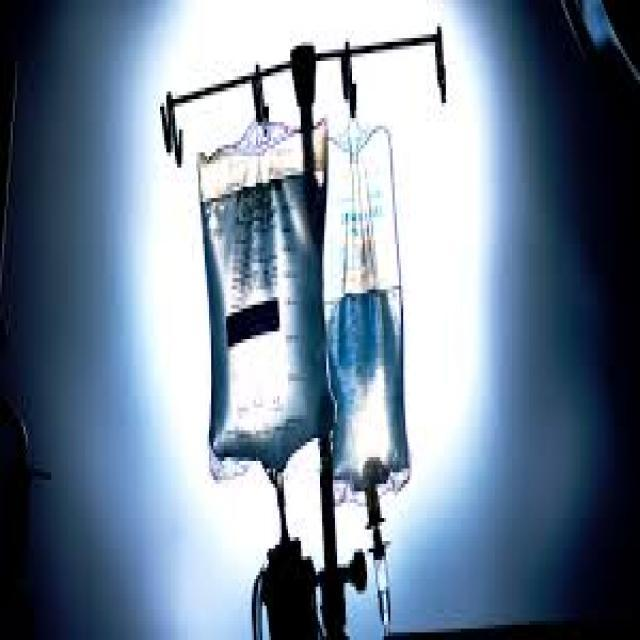iv_fluids: (117, 23, 454, 567)
